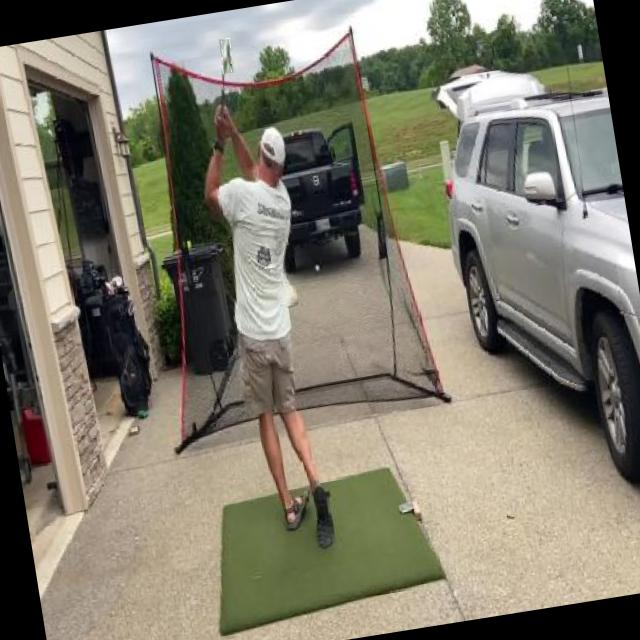club head: (219, 38, 234, 74)
